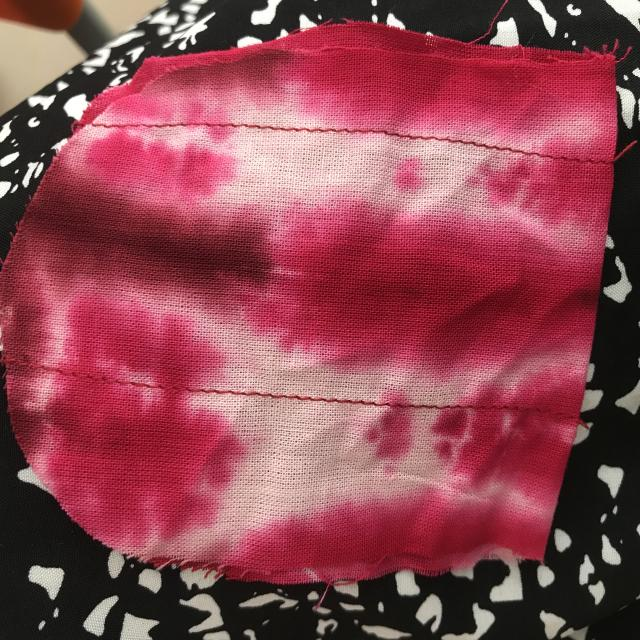good: (237, 386, 374, 412), (466, 134, 532, 162), (250, 117, 317, 142)
